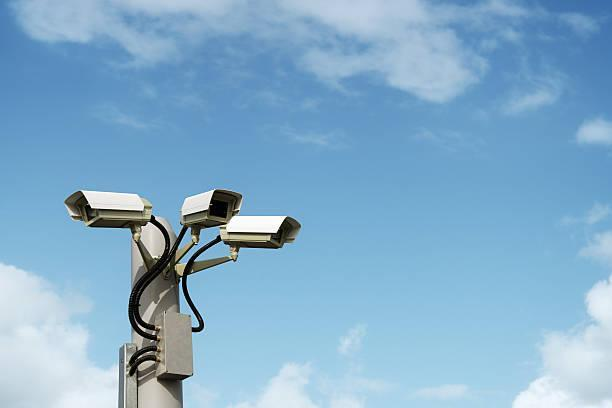camera: (48, 176, 157, 251), (210, 195, 299, 277), (158, 162, 245, 237)
